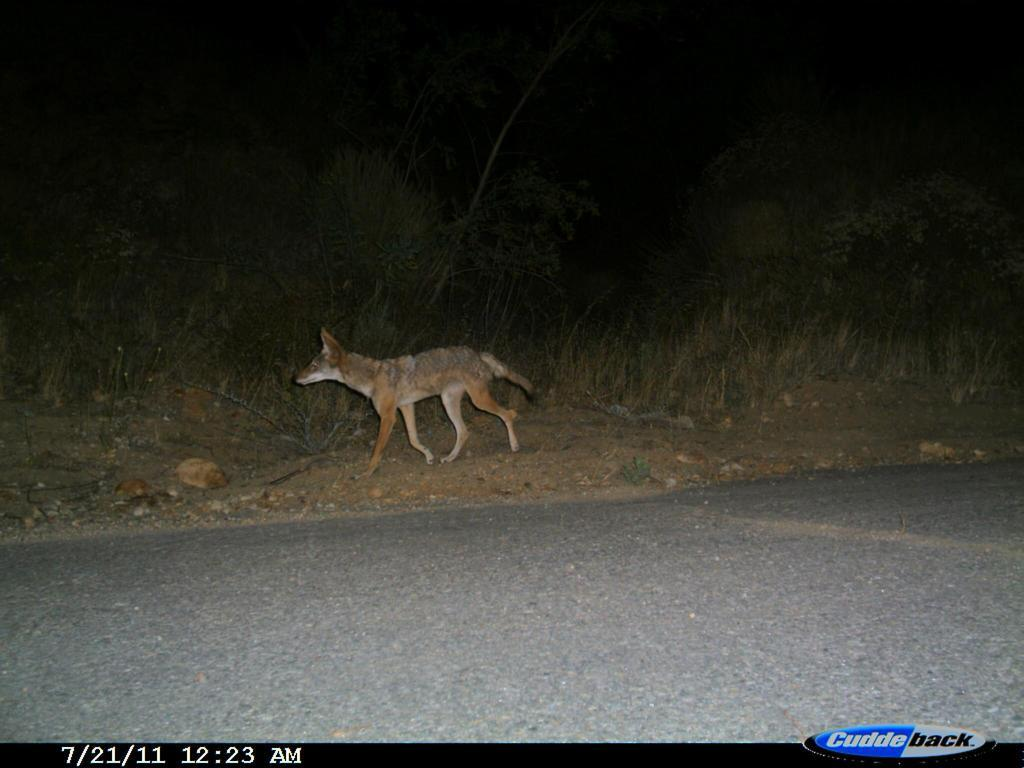coyote: (291, 328, 545, 479)
